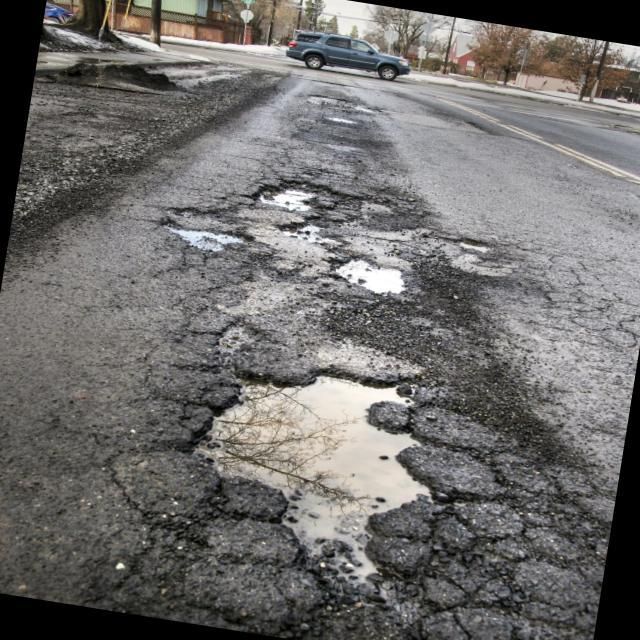Pothole: (196, 346, 442, 598), (249, 164, 352, 227), (164, 208, 248, 274), (328, 244, 408, 305), (384, 102, 491, 144)
